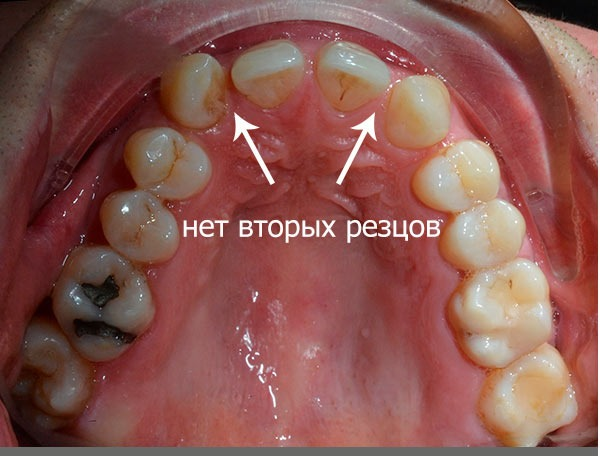UL1BC_healthy: (446, 200, 524, 267)
UL1M_healthy: (487, 348, 575, 436)
UL2BC_healthy: (452, 260, 550, 366)
ULCI_decay: (318, 41, 389, 109)
ULC_healthy: (416, 142, 499, 210)
ULLI_healthy: (389, 75, 449, 147)
UR1BC_decay: (103, 192, 178, 260)
UR1M_decay: (17, 327, 85, 432)
UR2BC_decay: (52, 248, 153, 360)
URCI_healthy: (232, 40, 303, 108)
URC_decay: (126, 127, 210, 198)
URLI_decay: (161, 54, 224, 127)
